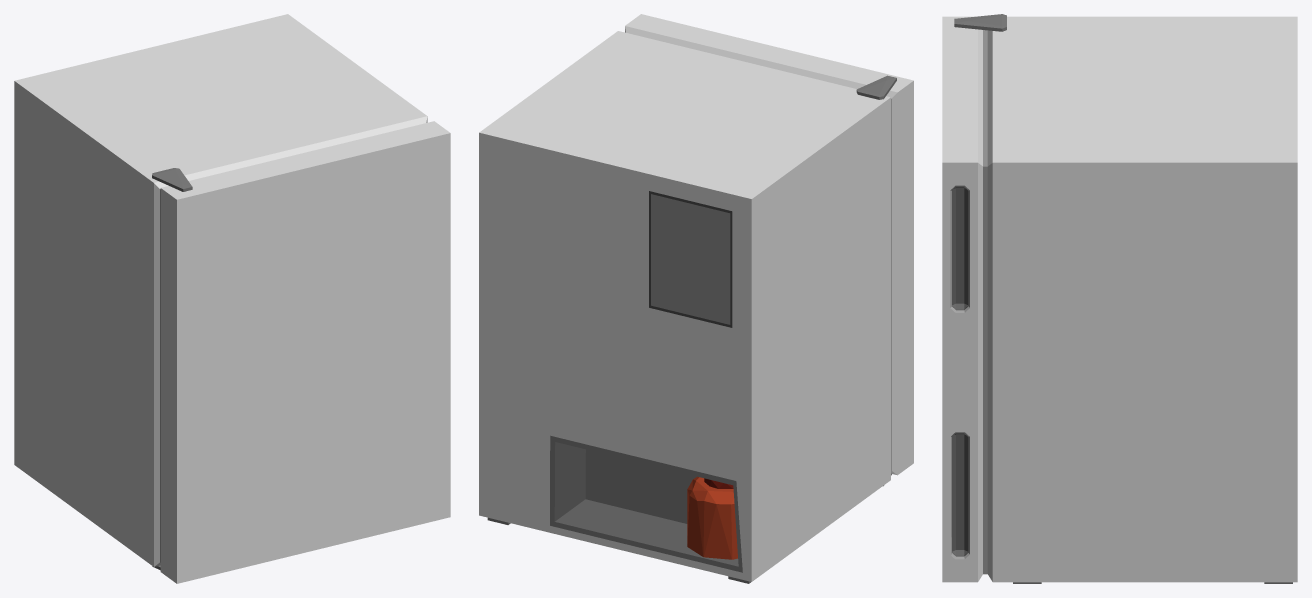
File: Mini Fridge #2.fbx
3 views of the same model, side by side, from view 1: azimuth 30°, elevation 25°; view 2: azimuth 150°, elevation 25°; view 3: azimuth 270°, elevation 25° (orthographic). The views are drawn at different scales.
Parts seen in each view (by area): view 1: Mini Fridge #2; view 2: Mini Fridge #2; view 3: Mini Fridge #2.
Boxes of the visible parts, <box> form: Mini Fridge #2: <box>14,14,450,583</box>; Mini Fridge #2: <box>479,14,913,583</box>; Mini Fridge #2: <box>942,14,1297,583</box>.
Size of the model in its own units: 71.45 by 98.03 by 73.55.
Materials: 1 (1 with a texture image).
